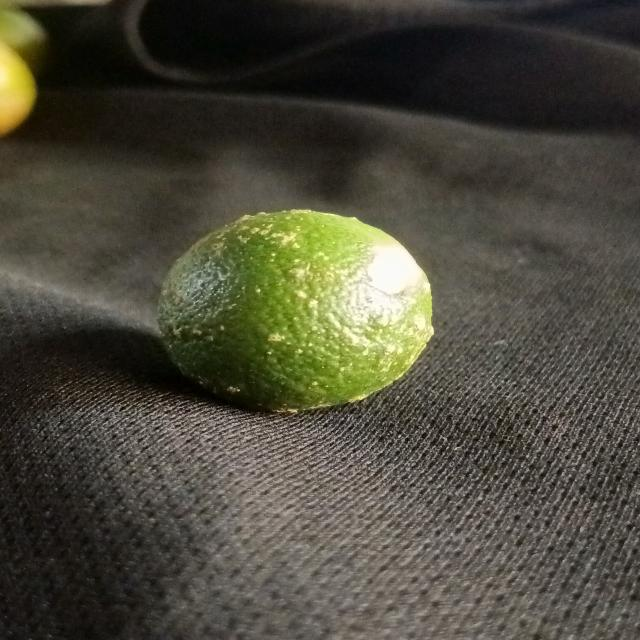scab: (153, 206, 436, 410)
